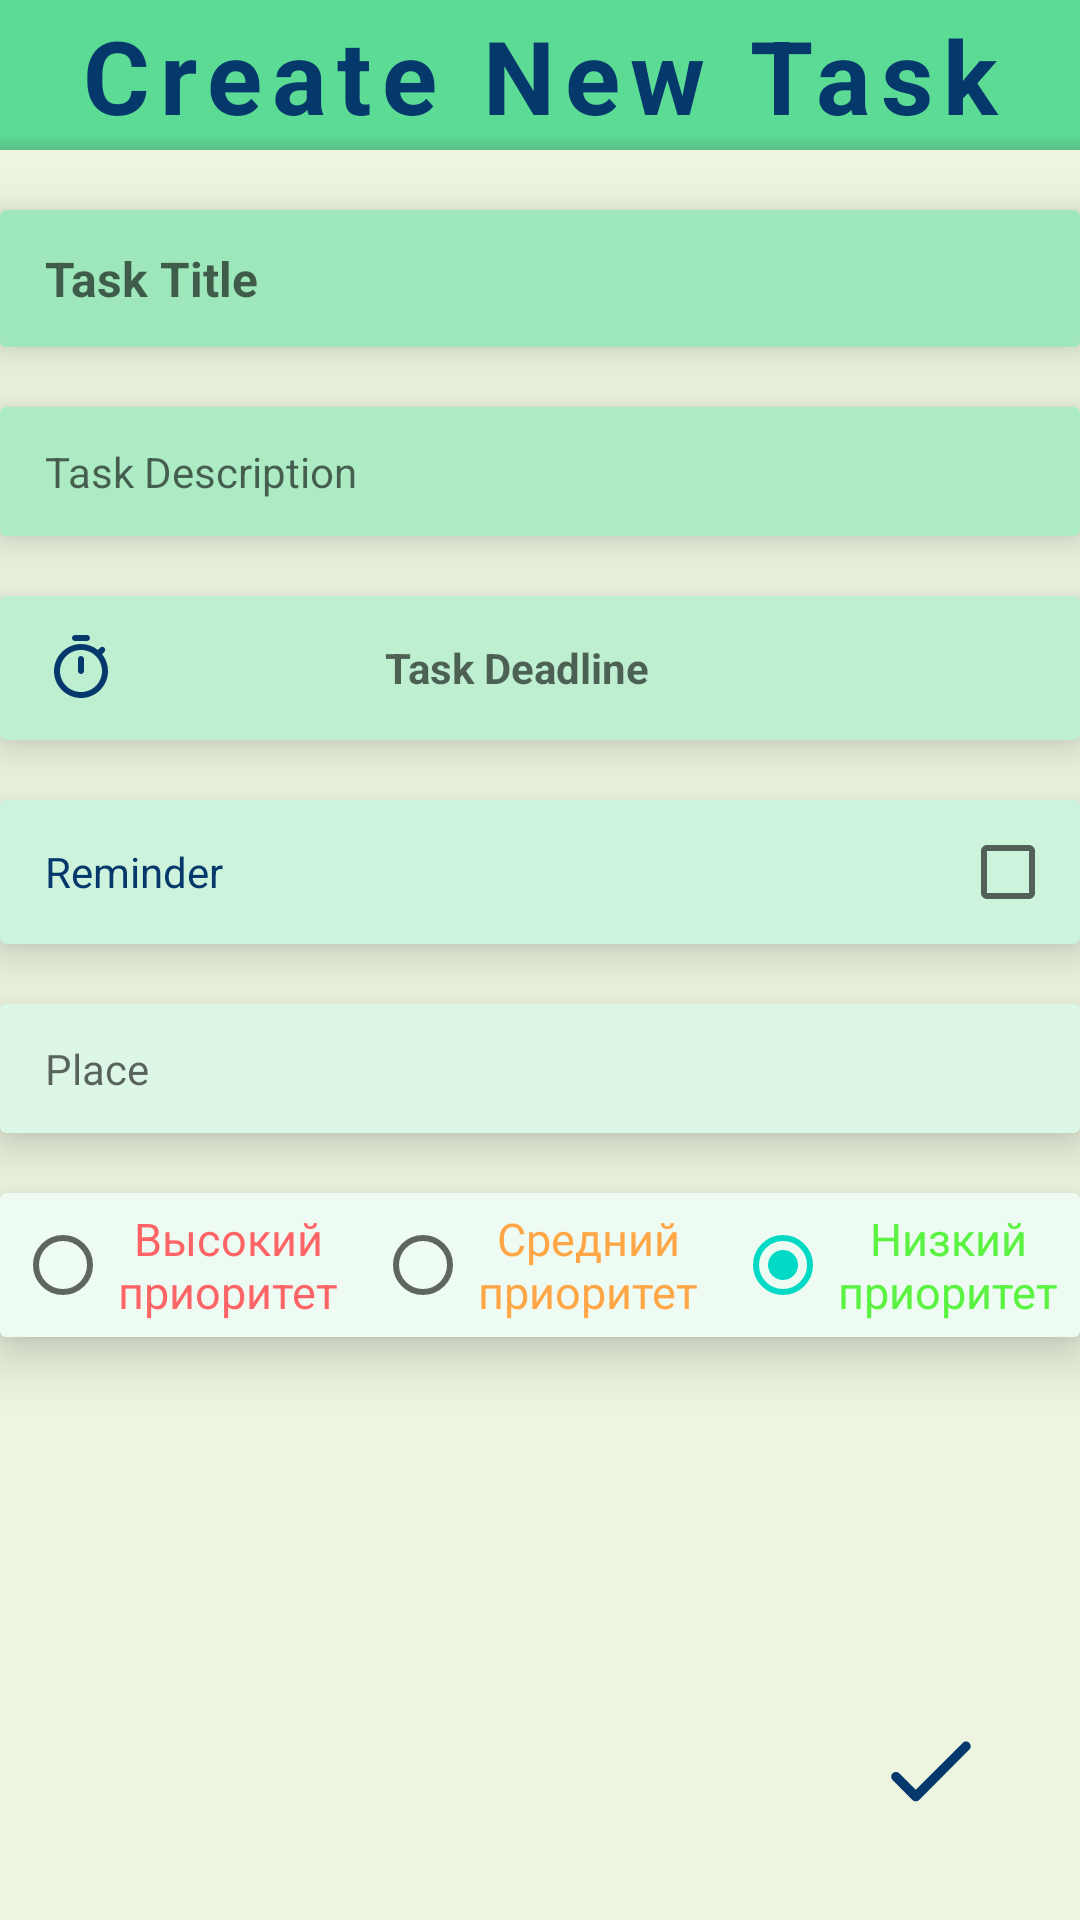

Icons on this 1080 x 1920 Android screen, each with its box as BBox(x1, y1, x2, y2):
apply: BBox(891, 1741, 971, 1802)
